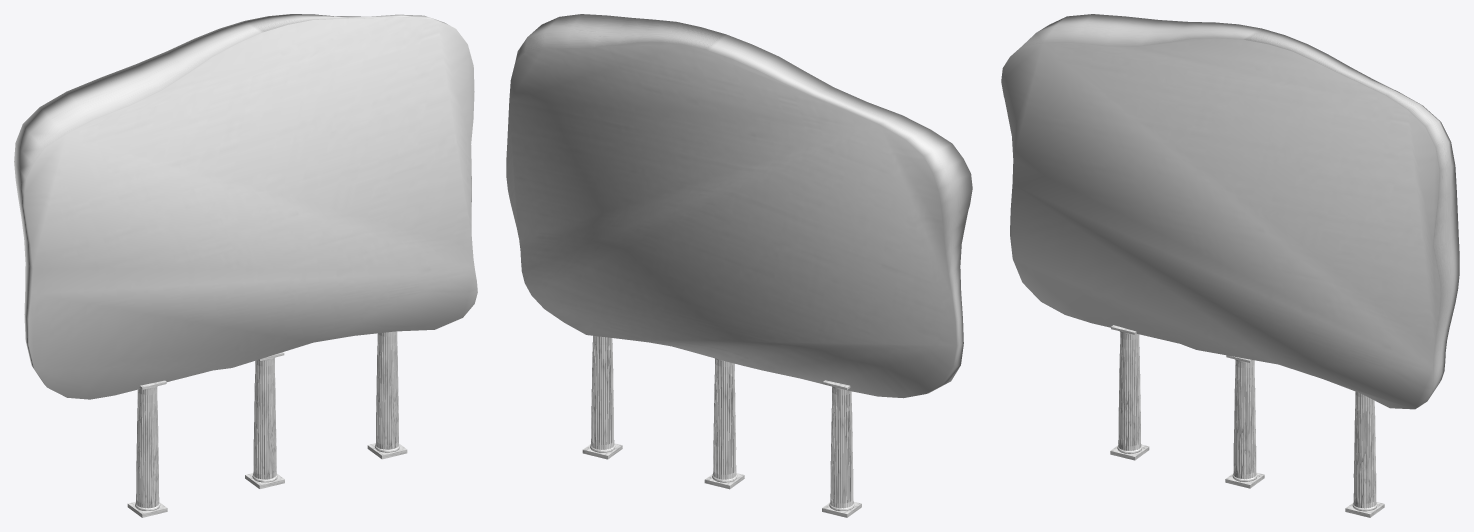
File: screen.glb
3 views of the same model, side by side, from view 1: azimuth 30°, elevation 25°; view 2: azimuth 150°, elevation 25°; view 3: azimuth 330°, elevation 25° (orthographic).
Parts seen in each view (by area): view 1: Cylinder.002, Object_4.006, Object_4.007, Object_4.005; view 2: Cylinder.002, Object_4.006, Object_4.007, Object_4.005; view 3: Cylinder.002, Object_4.006, Object_4.007, Object_4.005.
Boxes of the visible parts, bbox=[...] form: Cylinder.002: bbox=[14, 14, 477, 399]; Object_4.006: bbox=[127, 380, 167, 517]; Object_4.007: bbox=[245, 352, 284, 488]; Object_4.005: bbox=[367, 331, 407, 459]; Cylinder.002: bbox=[506, 14, 972, 398]; Object_4.006: bbox=[822, 380, 861, 517]; Object_4.007: bbox=[704, 358, 744, 489]; Object_4.005: bbox=[582, 335, 622, 459]; Cylinder.002: bbox=[1001, 14, 1459, 409]; Object_4.006: bbox=[1110, 325, 1149, 460]; Object_4.007: bbox=[1225, 355, 1264, 488]; Object_4.005: bbox=[1345, 391, 1384, 517].
Bounding box in the file's own units: 5.4 × 5.07 × 0.6945.
2 materials, 2 textured.
